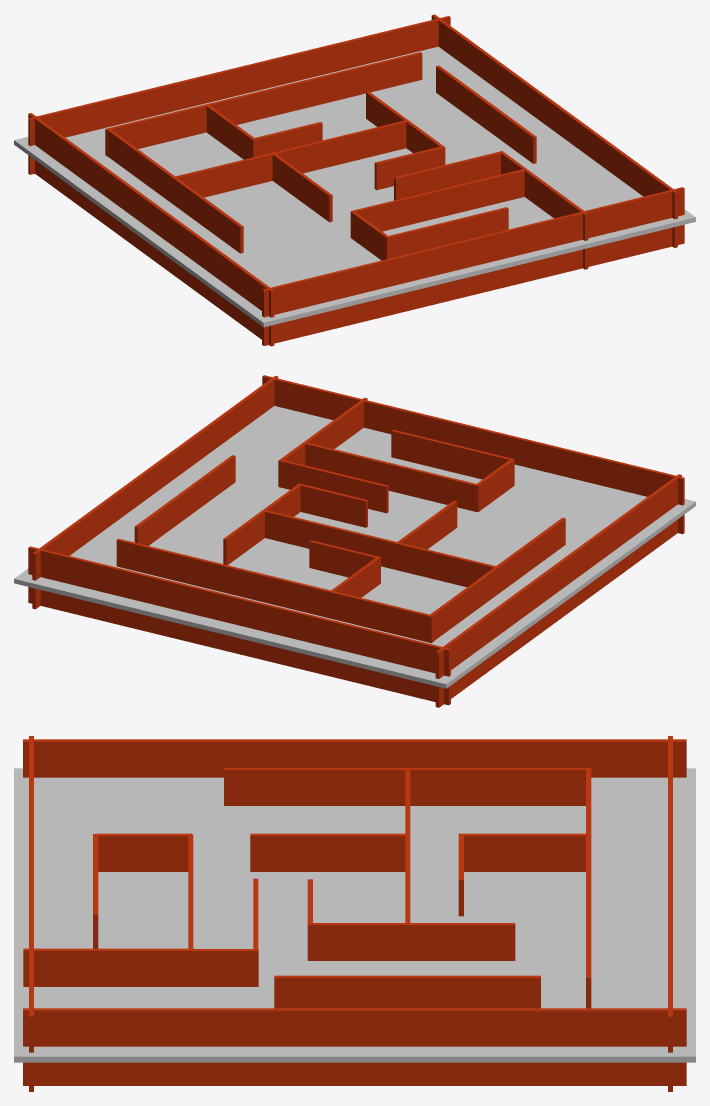
File: labirinto.obj
3 renders of one model, top to bottom at view 1: azimuth 30°, elevation 25°; view 2: azimuth 150°, elevation 25°; view 3: azimuth 270°, elevation 25°, orthographic. The views are drawn at different scales.
Visible parts, largest first — view 1: ground_Cube, wall.004_Cube.002, wall.003_Cube.001, wall.001_Cube.004, wall.005_Cube.005, wall.002_Cube.003, wall.009_Cube.009, wall.010_Cube.010, wall.018_Cube.019, wall.006_Cube.006, wall.011_Cube.011, wall.014_Cube.015 (+7 smaller); view 2: ground_Cube, wall.003_Cube.001, wall.001_Cube.004, wall.004_Cube.002, wall.005_Cube.005, wall.002_Cube.003, wall.009_Cube.009, wall.010_Cube.010, wall.018_Cube.019, wall.011_Cube.011, wall.006_Cube.006, wall.014_Cube.015 (+7 smaller); view 3: ground_Cube, wall.002_Cube.003, wall.001_Cube.004, wall.018_Cube.019, wall.006_Cube.006, wall.015_Cube.016, wall.013_Cube.013, wall.008_Cube.008, wall.007_Cube.007, wall.012_Cube.012, wall.000_Cube.014, wall.003_Cube.001 (+5 smaller).
Boxes of the visible parts, x1,y1,x2,y2 form: ground_Cube: (14, 46, 695, 327); wall.004_Cube.002: (262, 187, 684, 345); wall.003_Cube.001: (28, 16, 450, 174); wall.001_Cube.004: (28, 113, 274, 346); wall.005_Cube.005: (105, 52, 422, 156); wall.002_Cube.003: (431, 14, 677, 247); wall.009_Cube.009: (174, 120, 406, 197); wall.010_Cube.010: (351, 169, 524, 231); wall.018_Cube.019: (106, 128, 243, 253); wall.006_Cube.006: (436, 65, 536, 163); wall.011_Cube.011: (385, 207, 508, 259); wall.014_Cube.015: (394, 151, 503, 200); ground_Cube: (14, 406, 695, 688); wall.003_Cube.001: (28, 546, 450, 705); wall.001_Cube.004: (435, 474, 681, 707); wall.004_Cube.002: (262, 375, 684, 534); wall.005_Cube.005: (116, 538, 433, 642); wall.002_Cube.003: (32, 375, 278, 609); wall.009_Cube.009: (264, 510, 496, 587); wall.010_Cube.010: (305, 442, 478, 512); wall.018_Cube.019: (428, 517, 565, 642); wall.011_Cube.011: (391, 429, 514, 486); wall.006_Cube.006: (134, 455, 235, 545); wall.014_Cube.015: (279, 459, 388, 513); ground_Cube: (14, 768, 695, 1062); wall.002_Cube.003: (23, 1008, 686, 1085); wall.001_Cube.004: (23, 739, 686, 777); wall.018_Cube.019: (224, 768, 591, 805); wall.006_Cube.006: (274, 975, 540, 1008); wall.015_Cube.016: (307, 923, 515, 960); wall.013_Cube.013: (23, 948, 193, 986); wall.008_Cube.008: (250, 833, 409, 871); wall.007_Cube.007: (458, 833, 590, 871); wall.012_Cube.012: (97, 833, 191, 871); wall.000_Cube.014: (187, 949, 258, 986); wall.003_Cube.001: (668, 736, 672, 1091).
Bounding box in the file's own units: 30 × 3.65 × 30.
